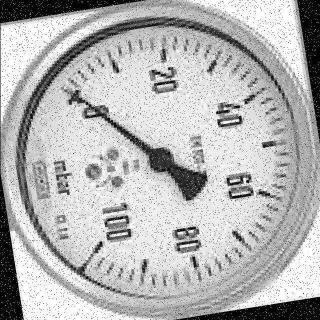gauge: (0, 0, 320, 320), (52, 78, 93, 116), (79, 227, 120, 261), (147, 146, 175, 174), (61, 84, 85, 106)
